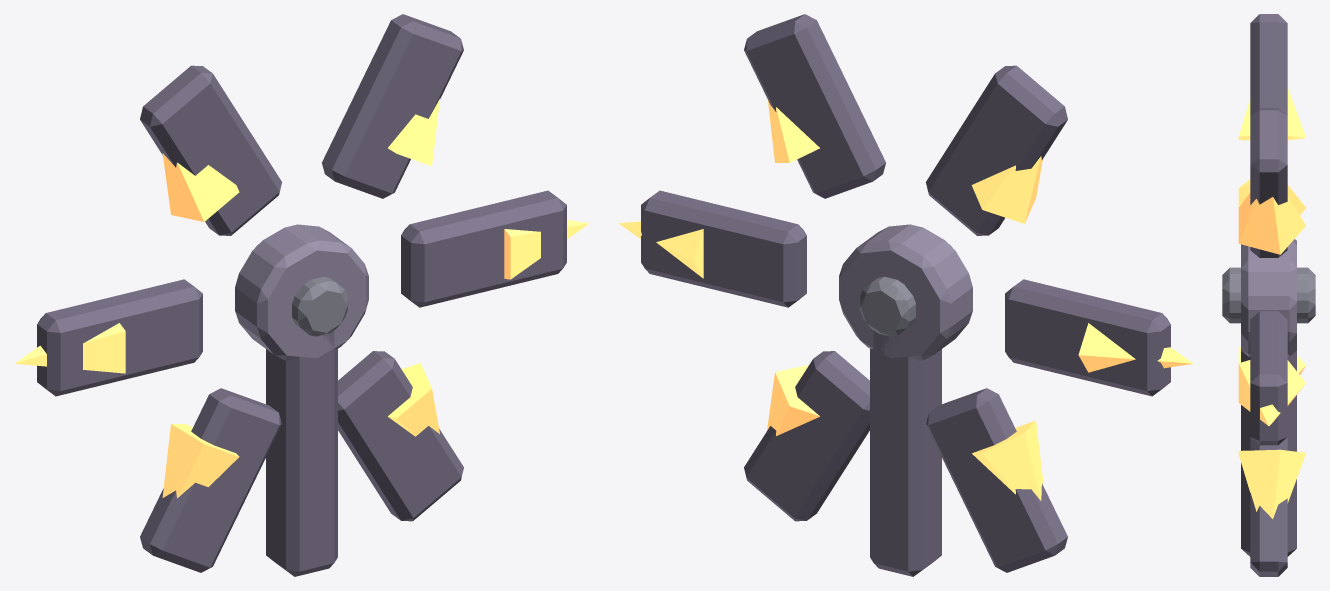
File: ember_flame_wheel.glb
The picture shows the model from 3 angles, left to right: view 1: azimuth 30°, elevation 25°; view 2: azimuth 150°, elevation 25°; view 3: azimuth 270°, elevation 25°; orthographic projection. The views are drawn at different scales.
Visible parts, largest first — view 1: ember_flame_wheel_Wheel.001, ember_flame_wheel_Body, ember_flame_wheel_Flames.001; view 2: ember_flame_wheel_Wheel.001, ember_flame_wheel_Body, ember_flame_wheel_Flames.001; view 3: ember_flame_wheel_Wheel.001, ember_flame_wheel_Flames.001, ember_flame_wheel_Body.
Part boxes in pixels (bbox=[...]): ember_flame_wheel_Wheel.001: bbox=[37, 14, 566, 572]; ember_flame_wheel_Body: bbox=[266, 276, 347, 576]; ember_flame_wheel_Flames.001: bbox=[15, 99, 588, 498]; ember_flame_wheel_Wheel.001: bbox=[641, 14, 1170, 572]; ember_flame_wheel_Body: bbox=[860, 276, 941, 576]; ember_flame_wheel_Flames.001: bbox=[619, 99, 1192, 500]; ember_flame_wheel_Wheel.001: bbox=[1241, 14, 1296, 576]; ember_flame_wheel_Flames.001: bbox=[1238, 87, 1305, 518]; ember_flame_wheel_Body: bbox=[1222, 267, 1315, 556].
Size of the model in its own units: 3.32 by 2.88 by 0.5.
